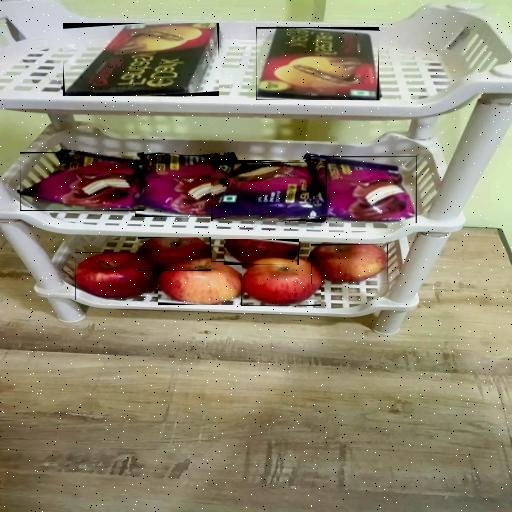Apple: (75, 252, 159, 300), (241, 257, 321, 306), (158, 261, 242, 305), (311, 244, 388, 284), (138, 237, 211, 271), (224, 239, 299, 265)
Choco Fills: (63, 23, 219, 96), (256, 27, 379, 100)
Choco Pie: (306, 156, 417, 223), (20, 152, 144, 211), (135, 155, 236, 217), (213, 163, 326, 217)
